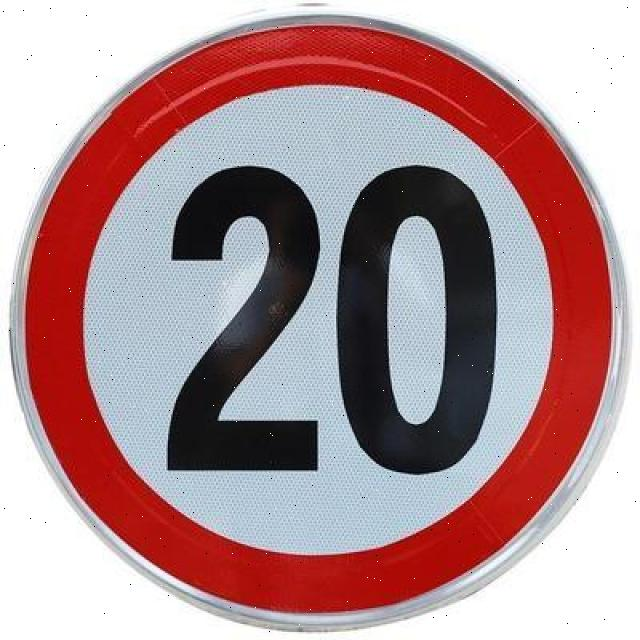speed limit 20: (11, 13, 628, 634)
